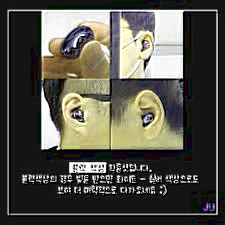earphone: (135, 90, 165, 139), (63, 94, 90, 136), (138, 31, 155, 61)
